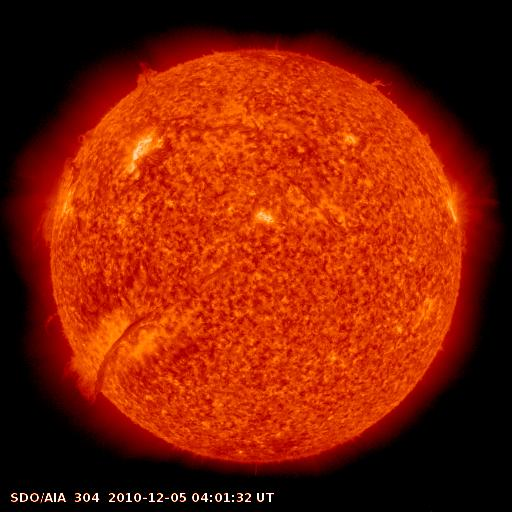prominence: (59, 343, 118, 414), (25, 193, 69, 255), (123, 46, 169, 98), (359, 59, 405, 104)
